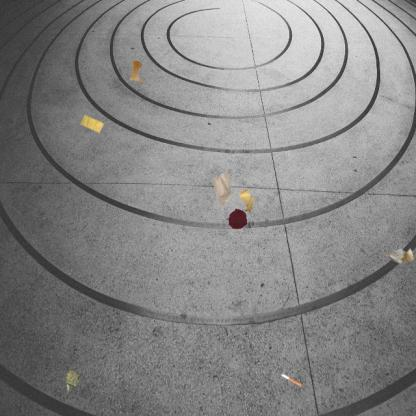dirty: (210, 170, 233, 208), (383, 246, 415, 266), (238, 187, 258, 213), (78, 114, 105, 133), (63, 369, 82, 393), (280, 372, 303, 388)
liquid: (129, 59, 144, 85), (229, 208, 247, 228)
